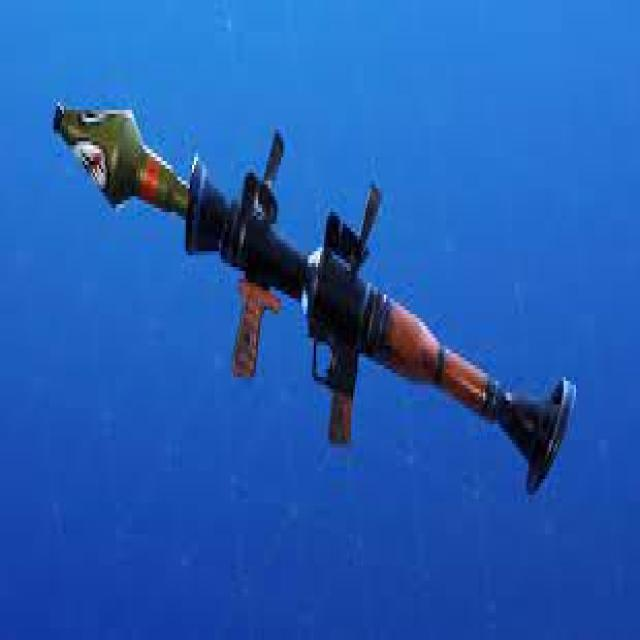bazooka: (17, 9, 610, 557)
